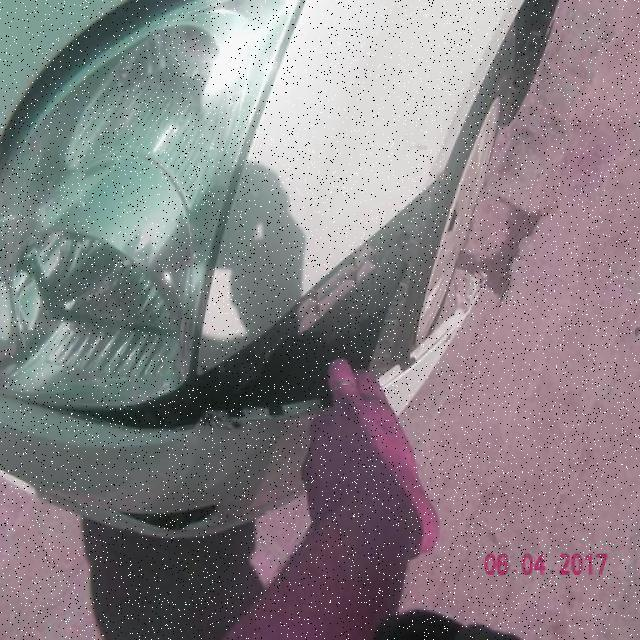car damage: (24, 170, 488, 433)
